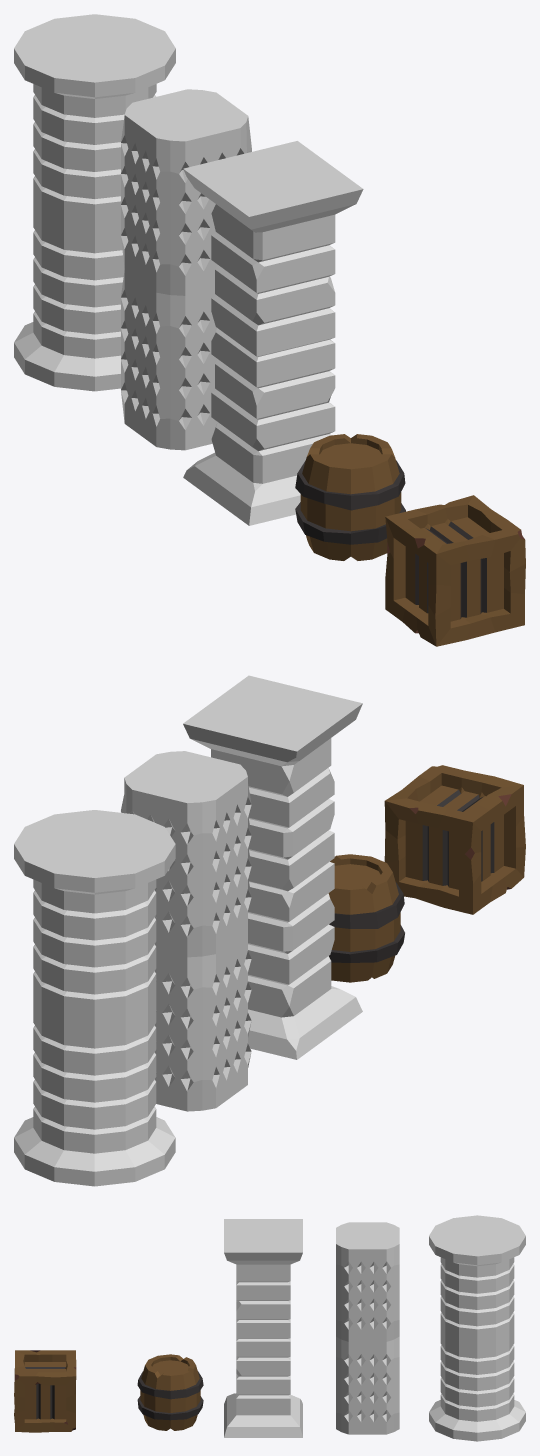
The model's file is Column3.fbx.
3 renders of one model, top to bottom at view 1: azimuth 30°, elevation 25°; view 2: azimuth 150°, elevation 25°; view 3: azimuth 270°, elevation 25°, orthographic. The views are drawn at different scales.
Parts seen in each view (by area): view 1: Column1, Cylinder.001, Cube.001, Cube, Cylinder; view 2: Cylinder.001, Column1, Cube.001, Cube, Cylinder; view 3: Cylinder.001, Column1, Cube.001, Cube, Cylinder.
Boxes of the visible parts, left/top/right/bottom form: Column1: left=183, top=141, right=363, bottom=525; Cylinder.001: left=14, top=14, right=175, bottom=391; Cube.001: left=121, top=89, right=251, bottom=450; Cube: left=385, top=495, right=525, bottom=646; Cylinder: left=295, top=434, right=405, bottom=560; Cylinder.001: left=14, top=810, right=175, bottom=1186; Column1: left=183, top=675, right=362, bottom=1059; Cube.001: left=121, top=751, right=251, bottom=1111; Cube: left=384, top=765, right=525, bottom=914; Cylinder: left=328, top=854, right=404, bottom=982; Cylinder.001: left=429, top=1215, right=525, bottom=1441; Column1: left=224, top=1219, right=302, bottom=1437; Cube.001: left=336, top=1222, right=399, bottom=1434; Cube: left=14, top=1350, right=76, bottom=1432; Cylinder: left=137, top=1354, right=203, bottom=1430.
Size of the model in its own units: 190 by 400 by 1002.
